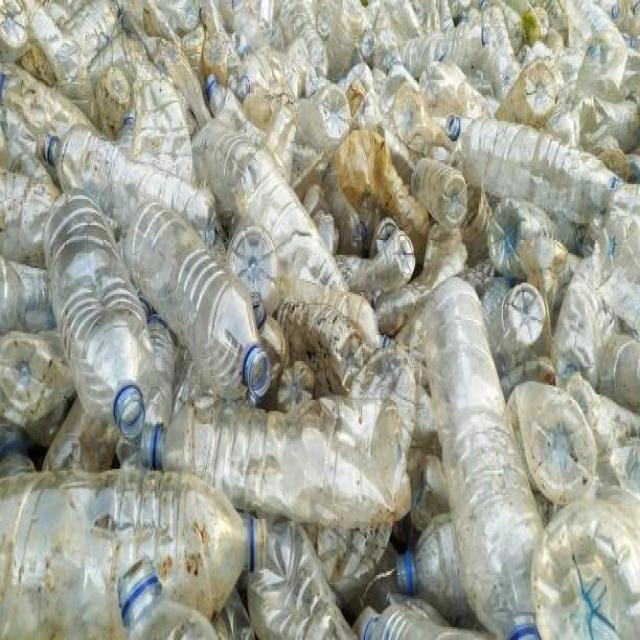plastic: (14, 52, 626, 640)
